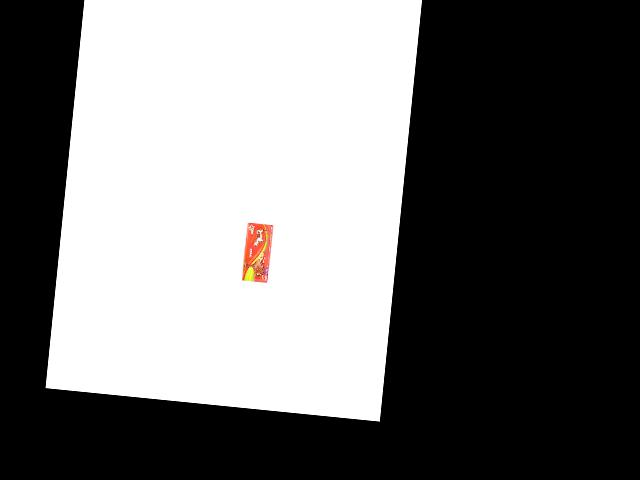chocolate: (239, 218, 279, 284)
